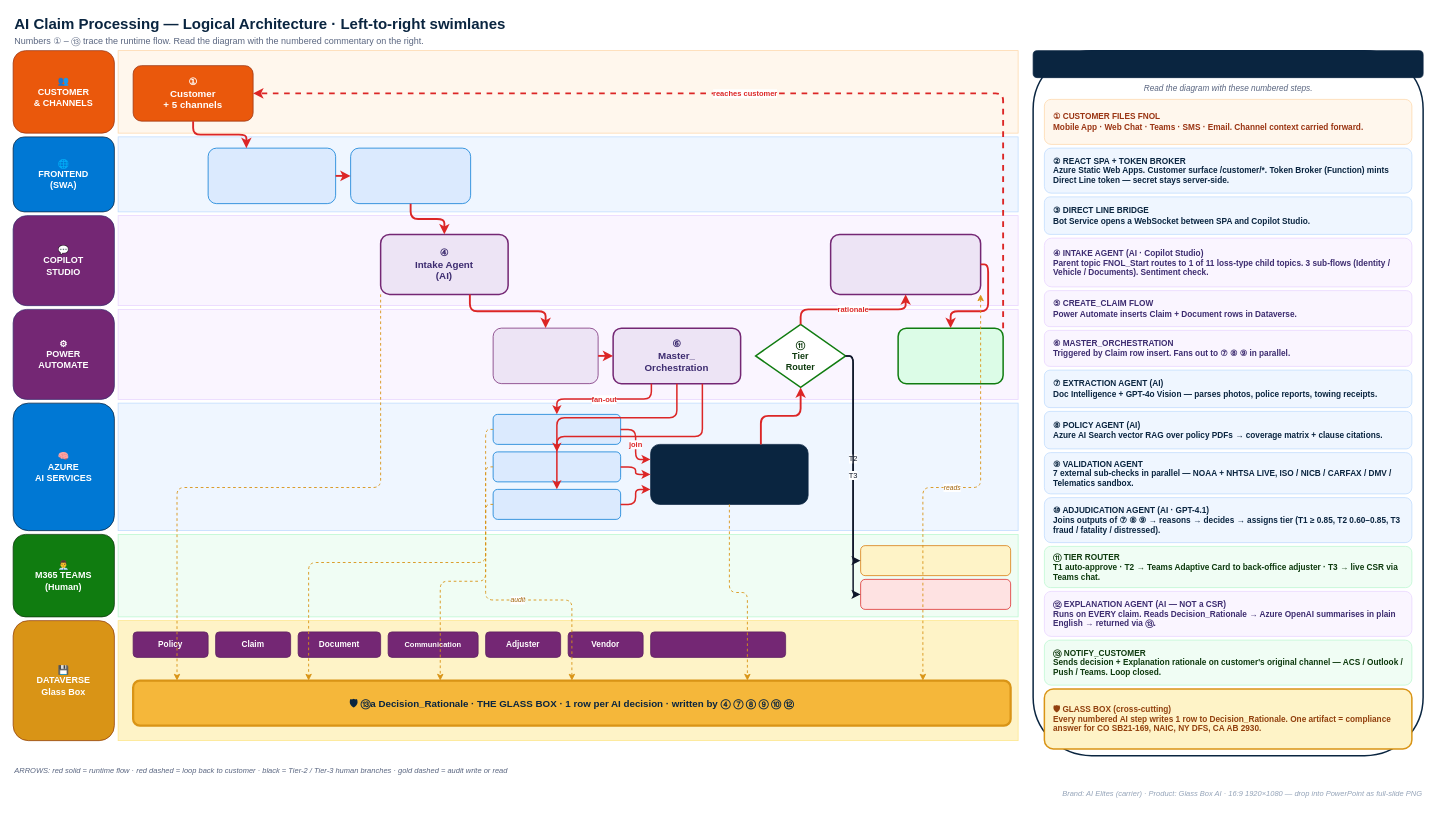
This 1437x813 diagram has some shape labels left out. The shapes that lost their labels are listed below. From the top down, each one's centre as x and y in pixels, then its label:
(1227,64): FLOW LEGEND
(271,175): ② React SPA + Token Broker
(410,175): ③ Direct Line Bot Service
(905,264): ⑫ Explanation Agent (AI — NOT CSR)
(545,355): ⑤ Create_Claim flow
(950,355): ⑬ Notify_ Customer
(556,429): ⑦ Extraction
(556,466): ⑧ Policy
(729,474): ⑩ Adjudication Azure OpenAI GPT-4.1
(556,504): ⑨ Validation · 7 ext checks
(935,560): T2 · Adjuster Teams Card (back-office human)
(935,594): T3 · Live CSR Teams Chat (front-line human)
(718,644): ClaimVendorAssignment
